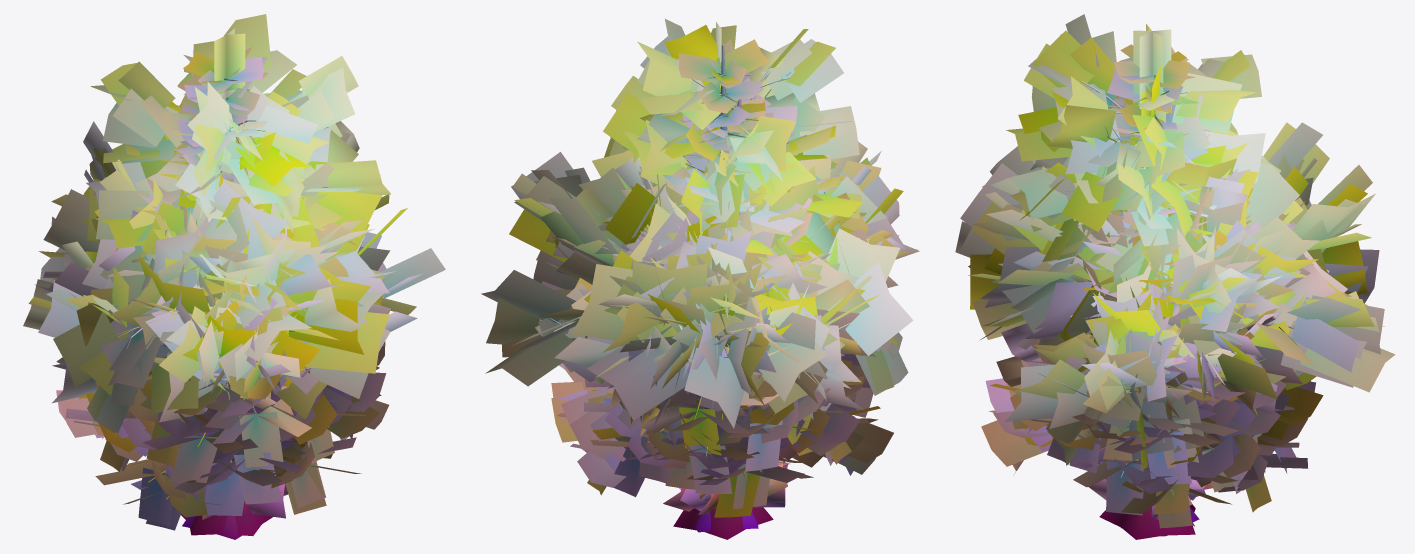
The model's file is trees.glb.
3 renders of one model, left to right at view 1: azimuth 30°, elevation 25°; view 2: azimuth 150°, elevation 25°; view 3: azimuth 270°, elevation 25°, orthographic.
Parts seen in each view (by area): view 1: birch_b_leaf, oak_b_leaf, fir_a_leaf, cherry_a_leaf, birch_a_leaf, fir_b_leaf, oak_a_leaf, oak_a_wood, bush_a_leaf; view 2: oak_b_leaf, birch_b_leaf, fir_a_leaf, oak_a_leaf, cherry_a_leaf, fir_b_leaf, birch_a_leaf, oak_a_wood, bush_a_leaf, fir_a_wood; view 3: oak_b_leaf, birch_b_leaf, oak_a_leaf, fir_a_leaf, cherry_a_leaf, birch_a_leaf, fir_b_leaf, oak_a_wood.
Part boxes in pixels (<box>): birch_b_leaf: <box>53,14,390,433</box>; oak_b_leaf: <box>38,121,396,367</box>; fir_a_leaf: <box>56,28,388,526</box>; cherry_a_leaf: <box>23,208,445,422</box>; birch_a_leaf: <box>81,69,416,418</box>; fir_b_leaf: <box>60,90,386,530</box>; oak_a_leaf: <box>34,121,390,398</box>; oak_a_wood: <box>181,330,295,535</box>; bush_a_leaf: <box>244,483,288,518</box>; oak_b_leaf: <box>481,141,919,436</box>; birch_b_leaf: <box>534,19,908,412</box>; fir_a_leaf: <box>551,22,893,517</box>; oak_a_leaf: <box>509,150,875,401</box>; cherry_a_leaf: <box>535,228,913,410</box>; fir_b_leaf: <box>551,85,875,509</box>; birch_a_leaf: <box>604,41,887,413</box>; oak_a_wood: <box>673,507,773,539</box>; bush_a_leaf: <box>663,457,787,514</box>; fir_a_wood: <box>630,44,772,532</box>; oak_b_leaf: <box>959,122,1395,409</box>; birch_b_leaf: <box>972,30,1316,428</box>; oak_a_leaf: <box>955,131,1319,364</box>; fir_a_leaf: <box>981,24,1323,515</box>; cherry_a_leaf: <box>968,251,1367,428</box>; birch_a_leaf: <box>1006,14,1263,469</box>; fir_b_leaf: <box>988,87,1315,528</box>; oak_a_wood: <box>1099,364,1219,539</box>.
Size of what is drawn, in the model's own units: 7.24 by 8.48 by 6.98.
